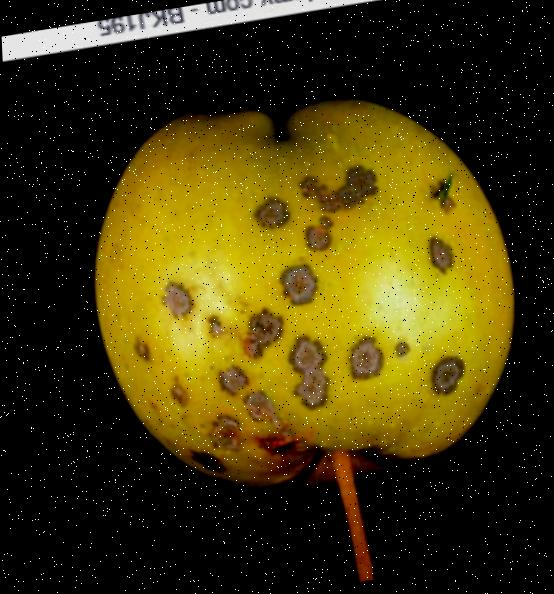SCAB: (32, 48, 548, 545)
